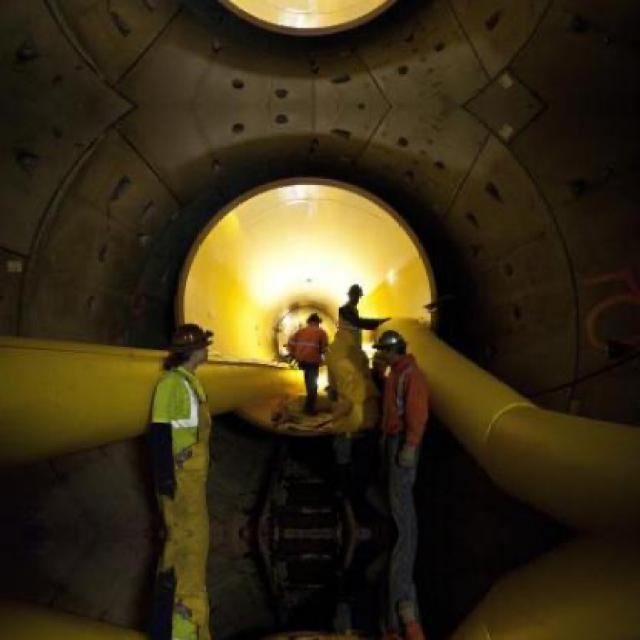helmet: (171, 316, 211, 366), (376, 324, 416, 372), (346, 282, 371, 308)
